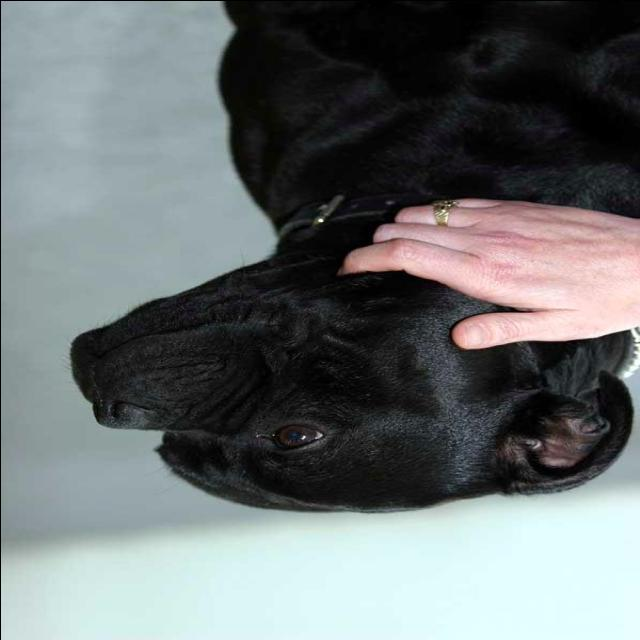staffordshire_bullterrier: (68, 2, 640, 518)
